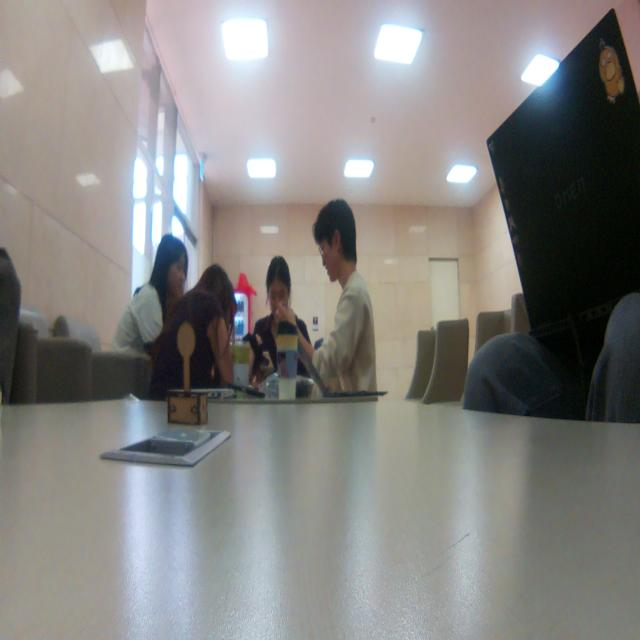target: (168, 323, 208, 426)
